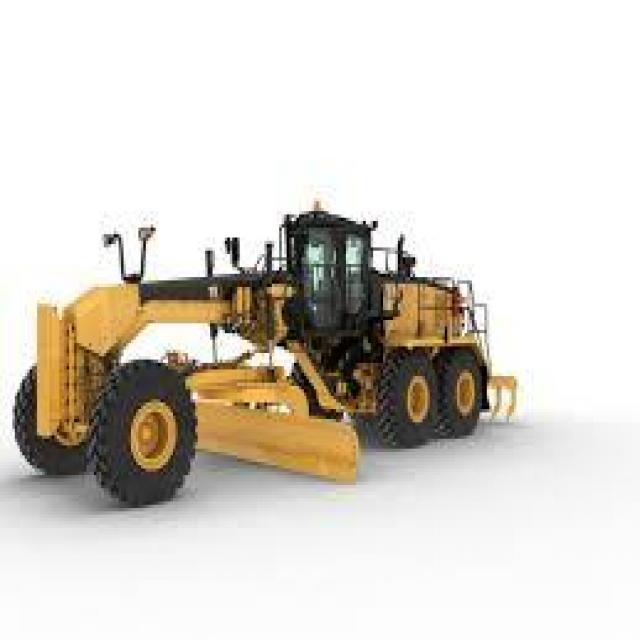Grader: (15, 188, 531, 521)
